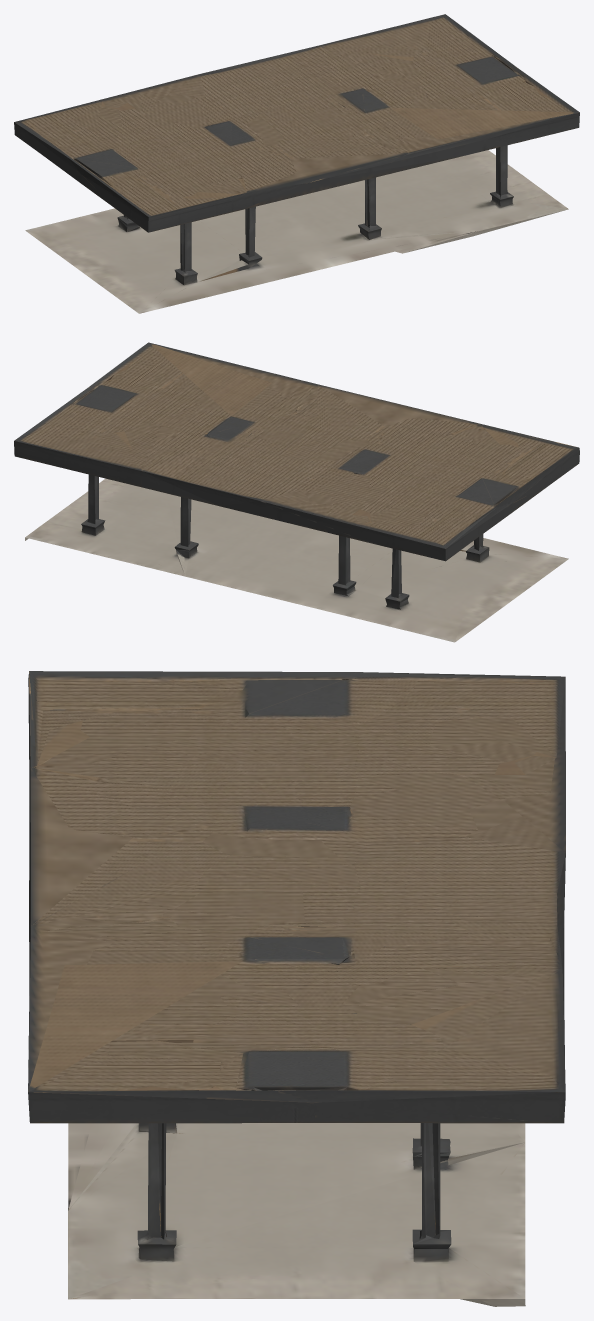
Rendered from A04_StationPlatform.fbx.
3 renders of one model, top to bottom at view 1: azimuth 30°, elevation 25°; view 2: azimuth 150°, elevation 25°; view 3: azimuth 270°, elevation 25°, orthographic. The views are drawn at different scales.
Visible parts, largest first — view 1: StationPlatform; view 2: StationPlatform; view 3: StationPlatform.
Part boxes in pixels (box(x1,y1,x2,y2)): StationPlatform: box(14, 14, 579, 313); StationPlatform: box(14, 342, 579, 642); StationPlatform: box(28, 671, 565, 1306).
Size of the model in its own units: 905 by 217 by 488.
1 material, 1 textured.
